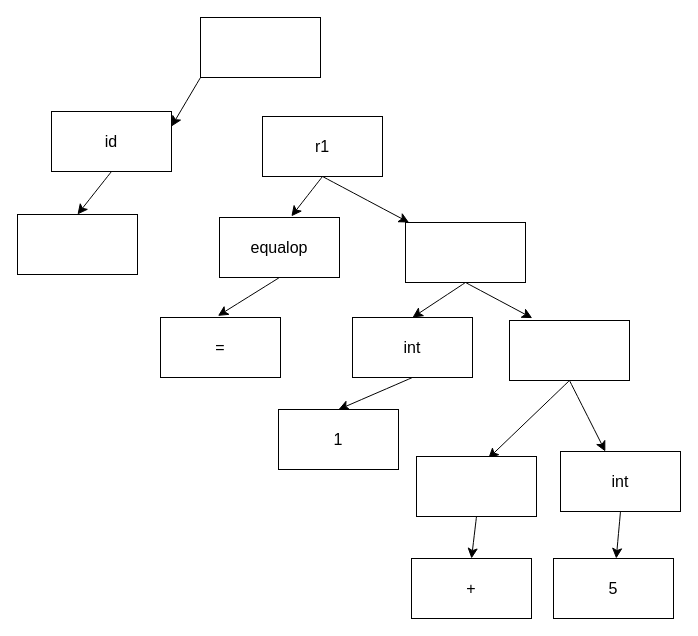
Some shapes in this 698 by 636 pixel diagram are drawn without their labels. Each missing label, with the centre of its shape:
math: pixel 465 252
math code: pixel 260 47
mathop: pixel 476 486
r2: pixel 569 350
varA: pixel 77 244
